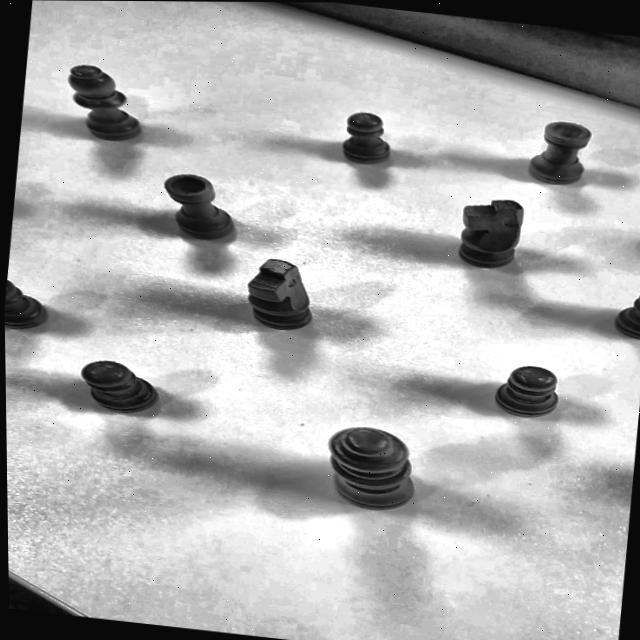black-bishop: (53, 55, 165, 148)
black-knight: (232, 251, 342, 339), (446, 188, 536, 281)
black-pawn: (465, 351, 592, 432), (65, 351, 178, 425), (319, 104, 406, 172), (597, 270, 640, 348)
black-queen: (294, 406, 447, 537)
black-rook: (149, 165, 253, 245), (517, 110, 605, 192)
